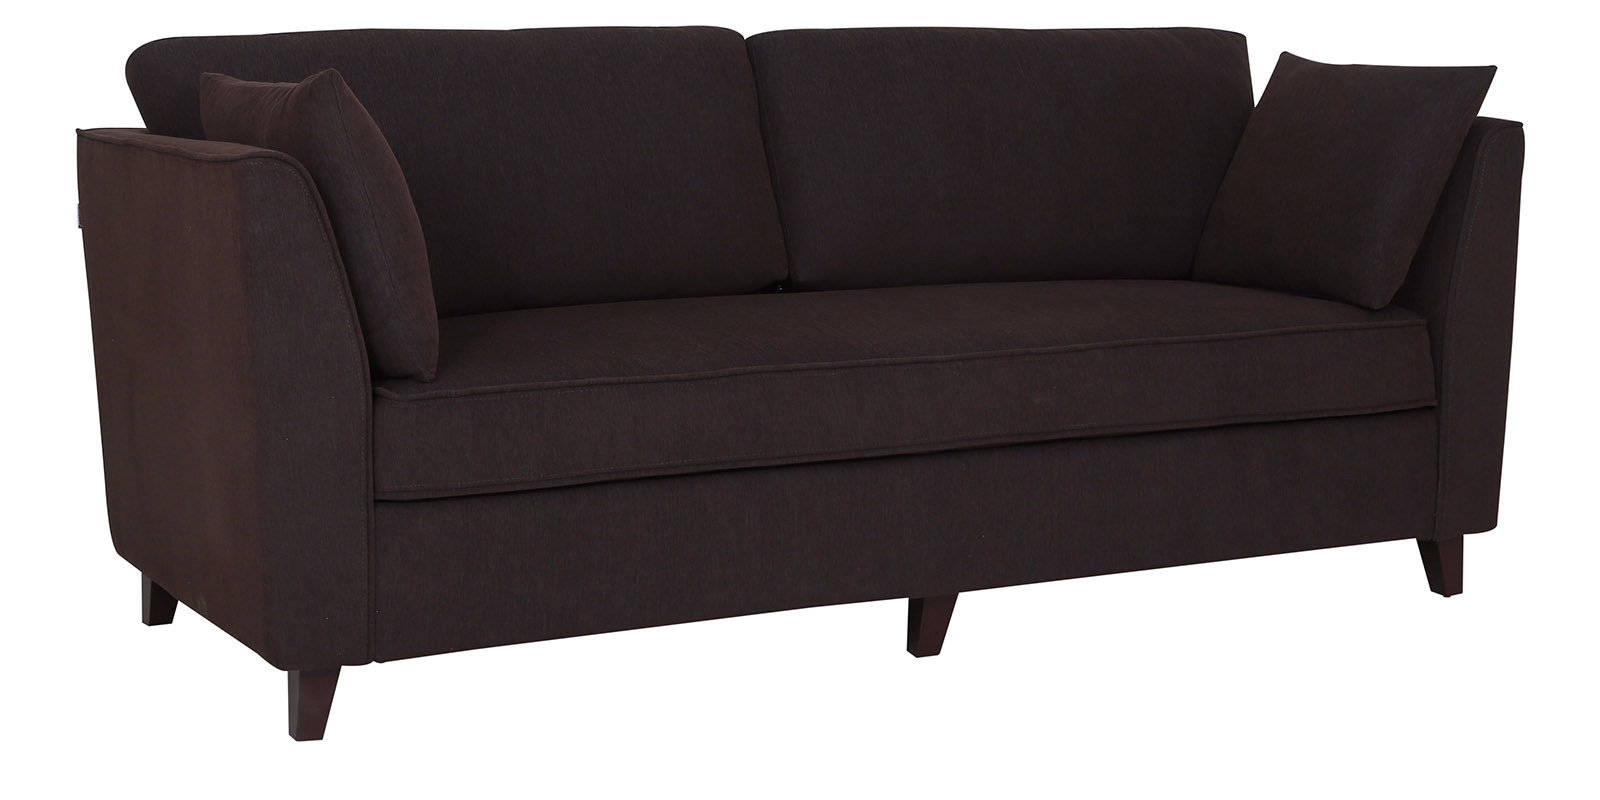Miranda Three Seater Sofa in Chestnut Brown Colour by CasaCraft: (74, 23, 1530, 741)
